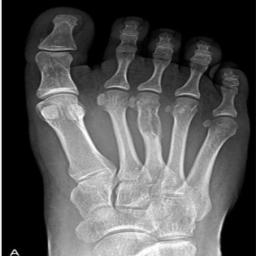cancer: (136, 95, 160, 136)
